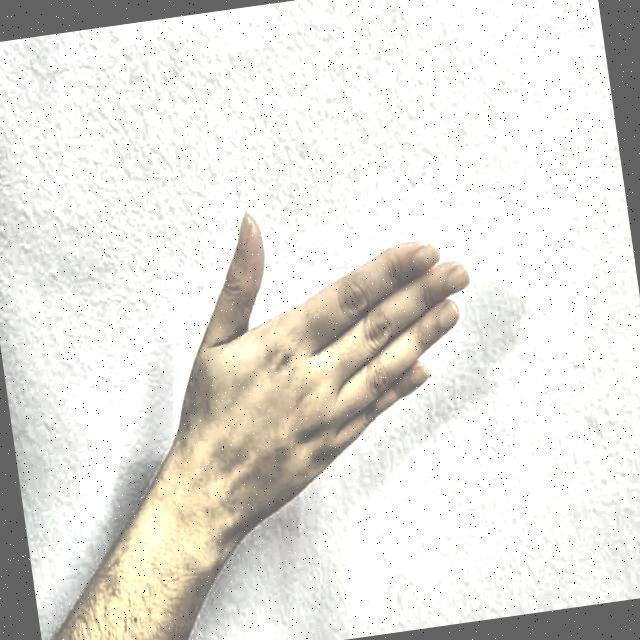Aa: (134, 135, 530, 583)
